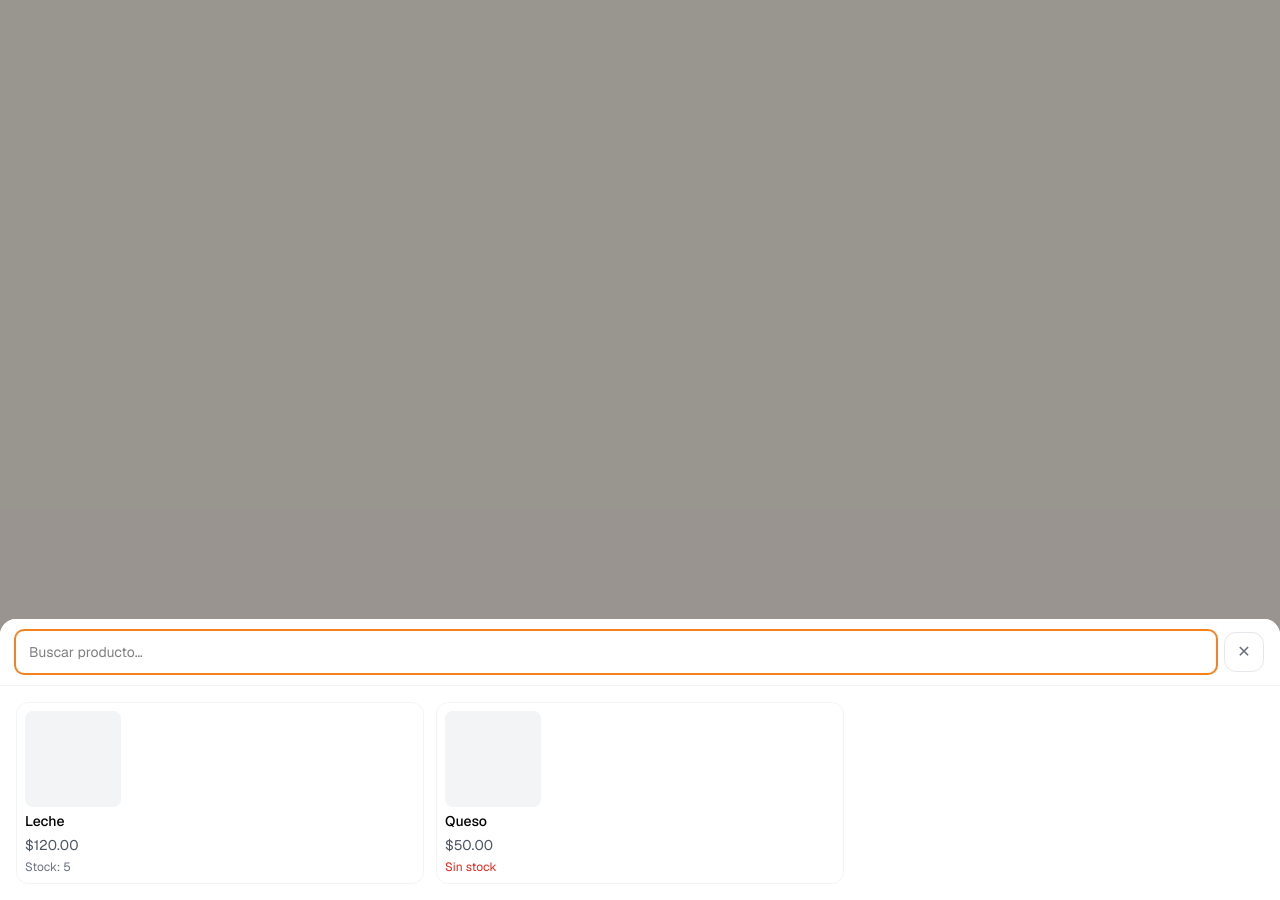
Test case: ProductPicker — behavioral (VPP-T2) › typing in search filters by nombre case-insensitively (S3-1)
Type "lech" into the field labelled "Buscar producto".
click(616, 652); type("lech")  # box [16,631,1216,673]
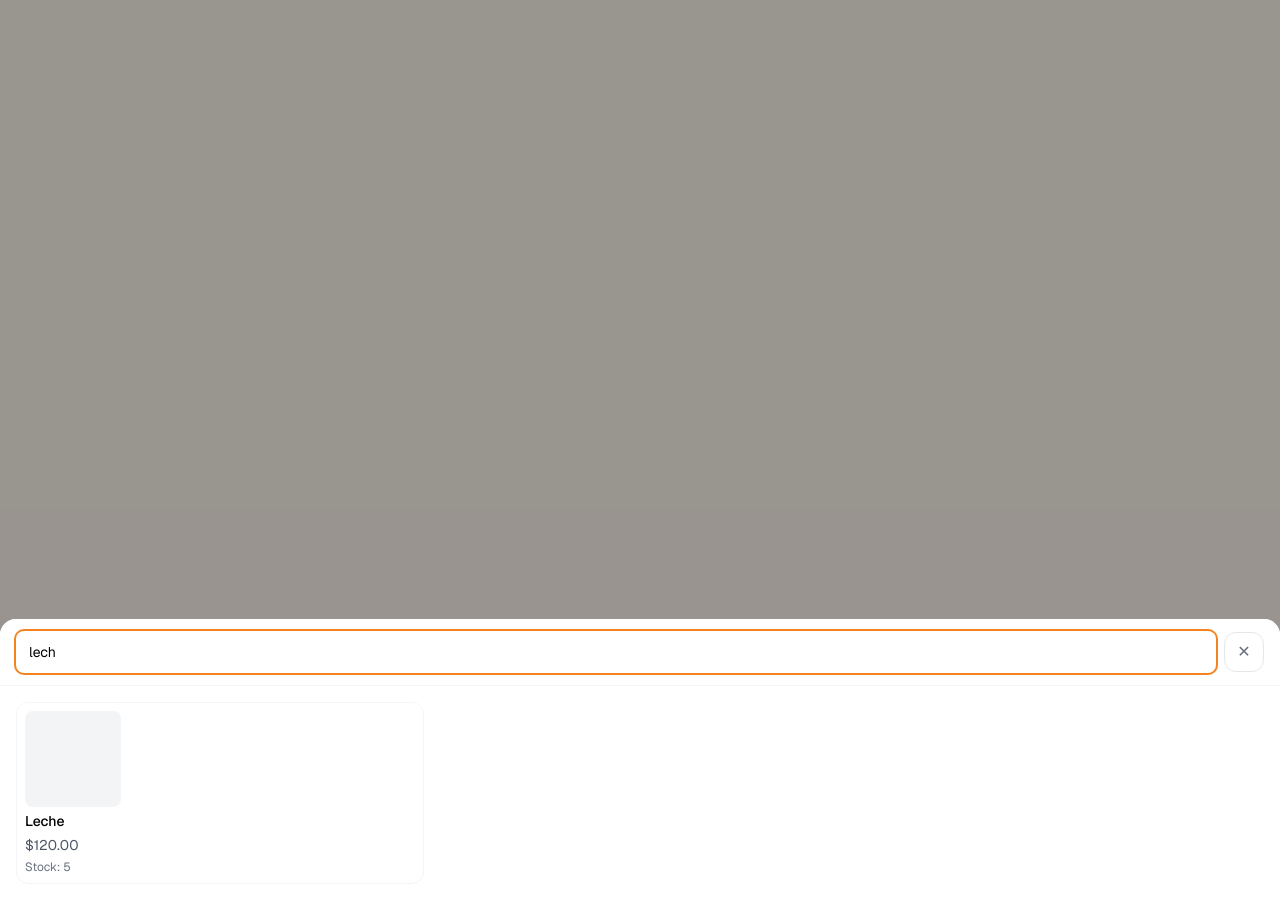
Expected: the text "Leche" is shown, [25,812,64,830]
Expected: the button "Queso" is gone
